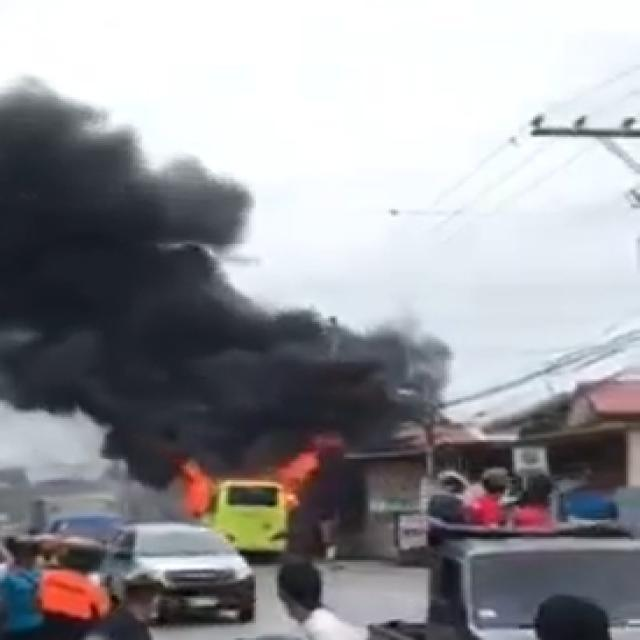Fire: (192, 429, 324, 520)
Smoke: (5, 82, 435, 441)
